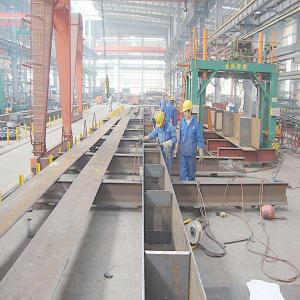red: (163, 94, 166, 101)
yellow: (182, 100, 195, 120), (156, 111, 167, 129), (170, 96, 175, 105)
